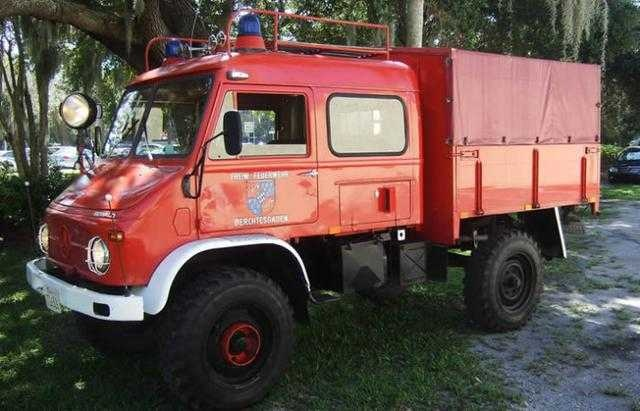Fire Truck: (30, 12, 612, 396)
